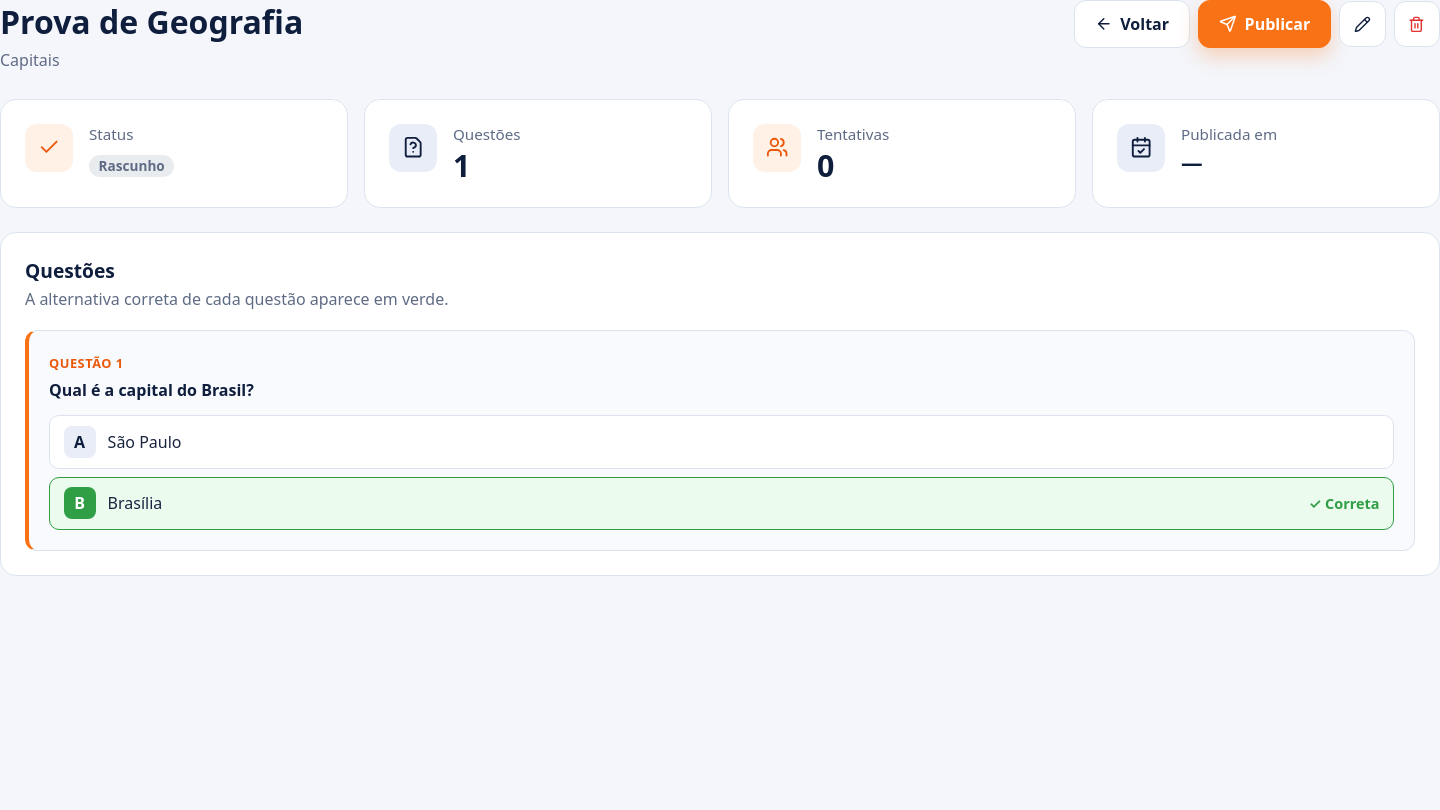
Test: ExamDetailView › publishes after confirmation and freezes the exam
Click the button "Publicar" at (1265, 24), box [1198,0,1331,48]
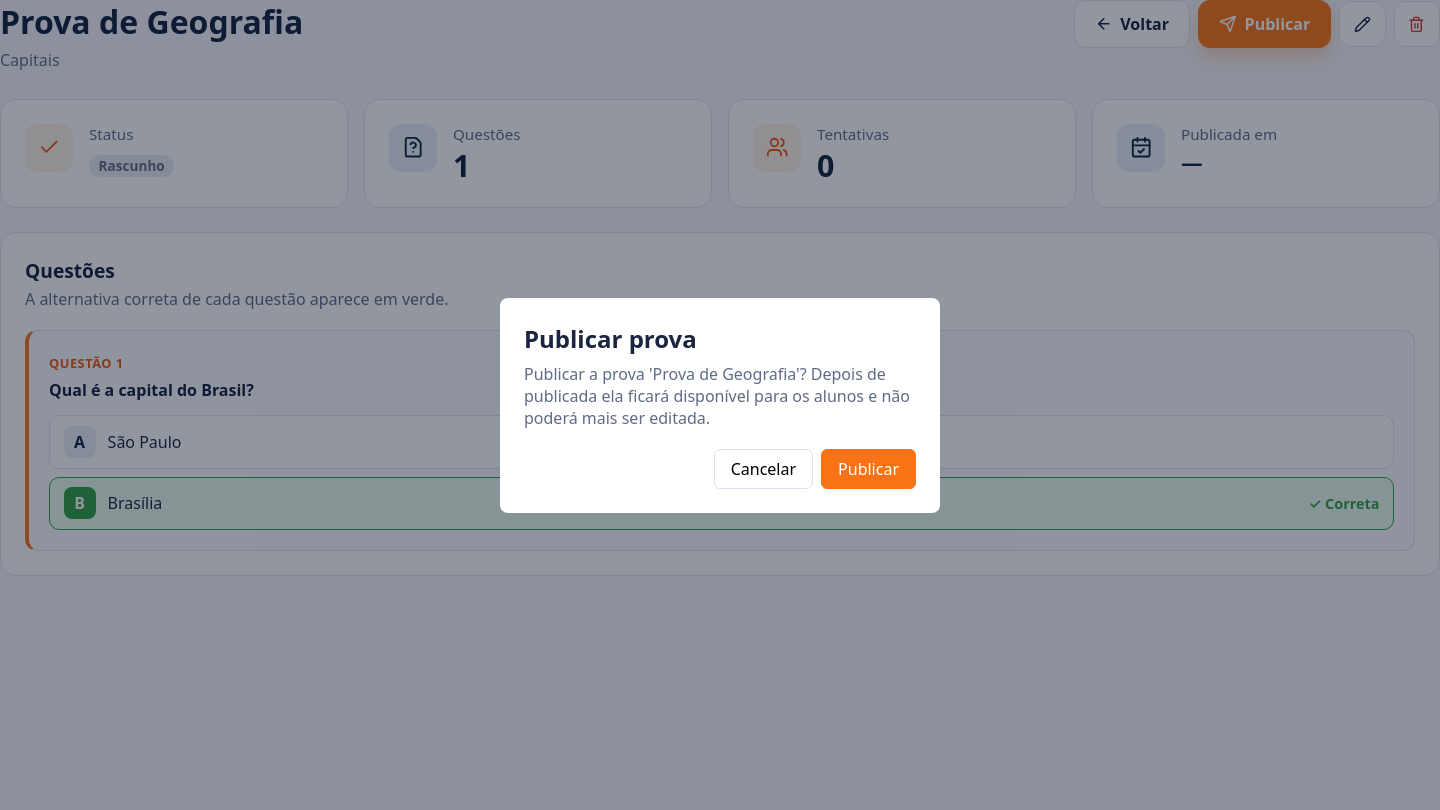
Click the button with class "dialog__confirm" at (869, 468), box [821,448,916,488]
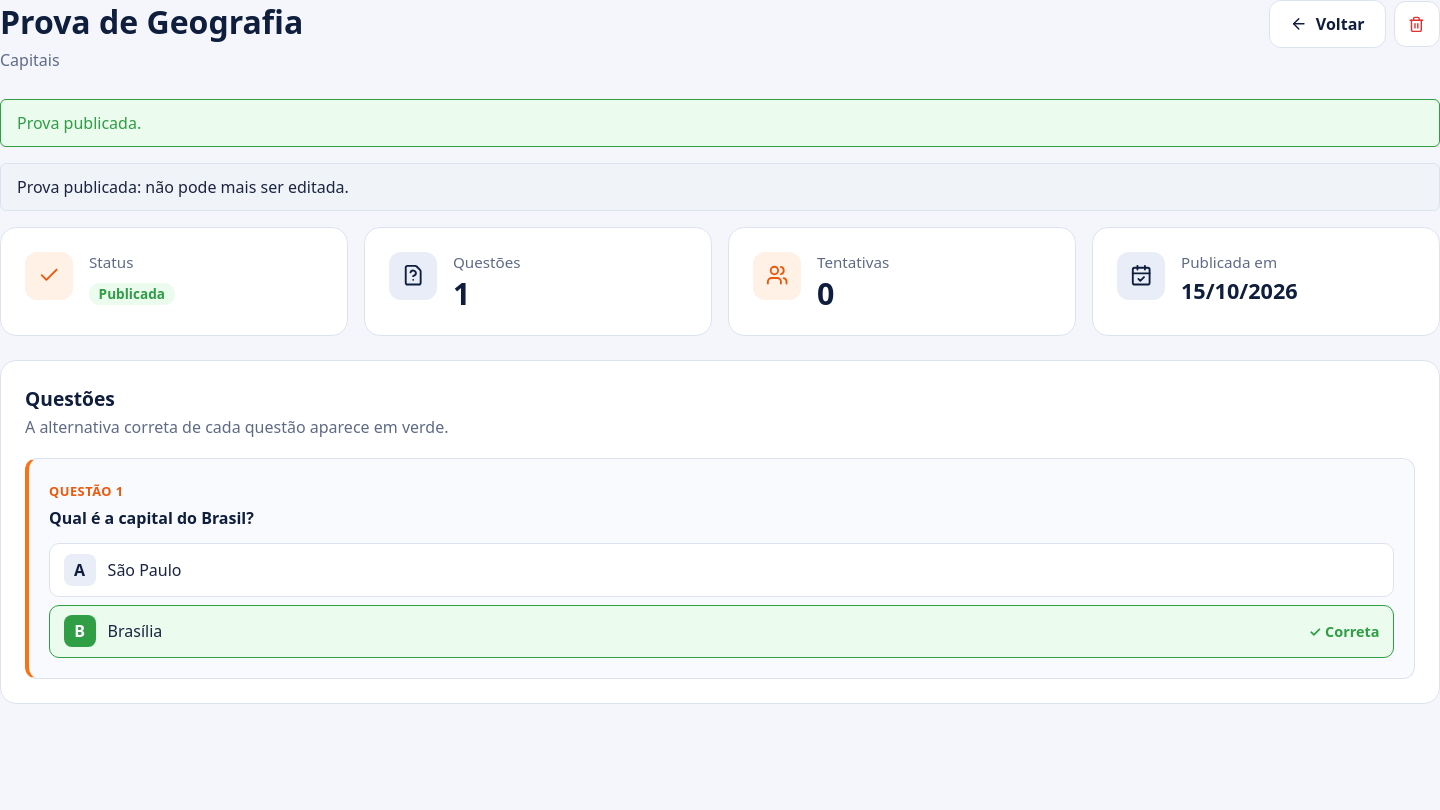
Expected: the text "Prova publicada." is shown, [0,99,1439,147]
Expected: the text "Prova publicada: não pode mais ser editada." is shown, [0,163,1439,211]
Expected: the button with class "exam-detail__actions" no longer shows "Publicar"
